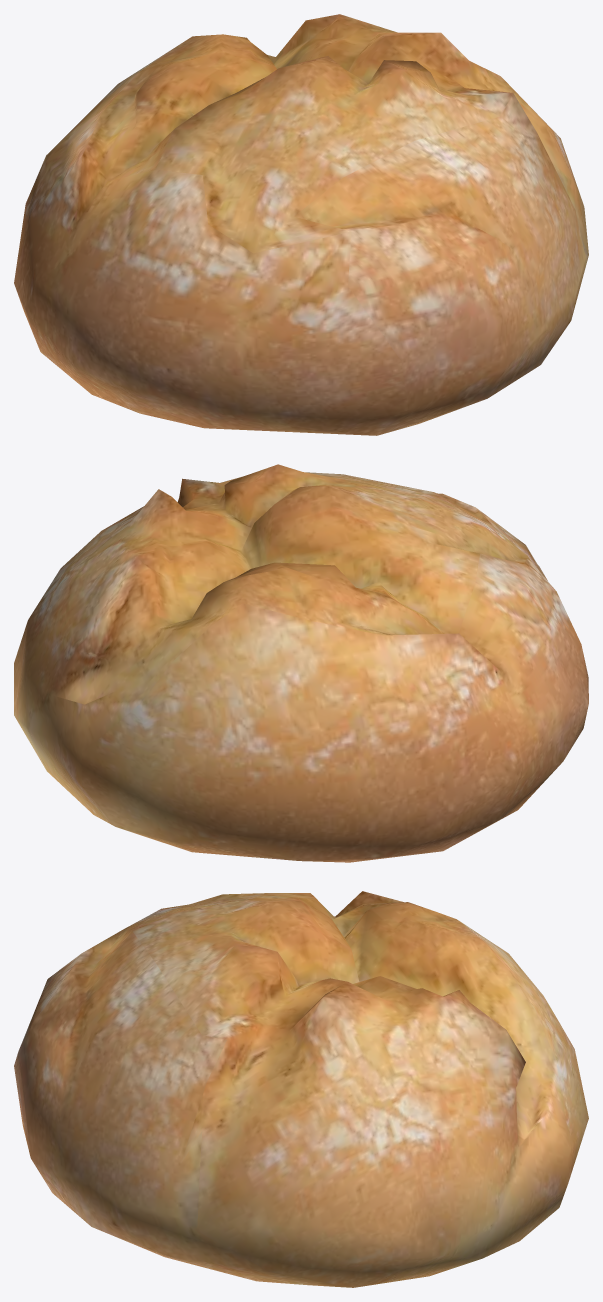
Rendered from 3DBread006.glb.
The picture shows the model from 3 angles, top to bottom: view 1: azimuth 30°, elevation 25°; view 2: azimuth 150°, elevation 25°; view 3: azimuth 270°, elevation 25°; orthographic projection. The views are drawn at different scales.
Visible parts, largest first — view 1: 3DBread006; view 2: 3DBread006; view 3: 3DBread006.
Part boxes in pixels (x1=…): 3DBread006: x1=14, y1=14, x2=588, y2=435; 3DBread006: x1=14, y1=464, x2=588, y2=862; 3DBread006: x1=14, y1=891, x2=588, y2=1287.
Size of the model in its own units: 0.1085 by 0.0605 by 0.1063.
Materials: 1 (1 with a texture image).
